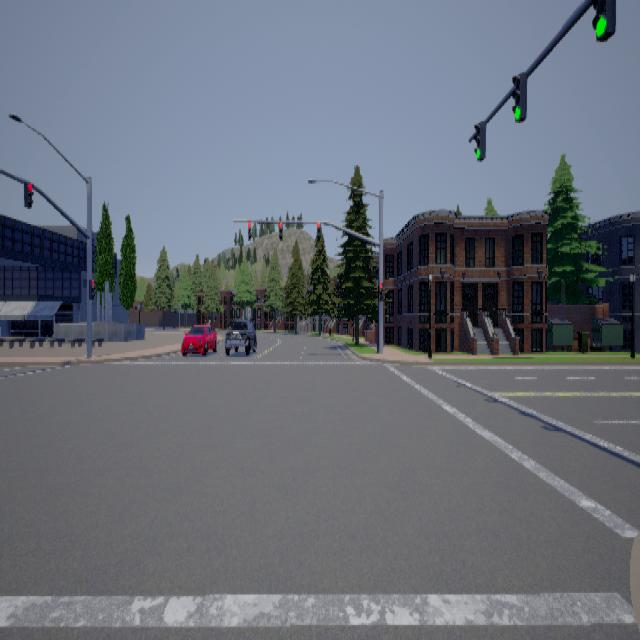green_light: (591, 0, 615, 40), (511, 71, 526, 121), (473, 120, 485, 160)
red_light: (23, 180, 33, 207), (88, 278, 94, 298), (316, 221, 321, 240), (278, 220, 282, 240), (378, 281, 382, 300), (248, 219, 251, 239)
vehicle: (223, 316, 256, 354), (180, 324, 216, 356)
